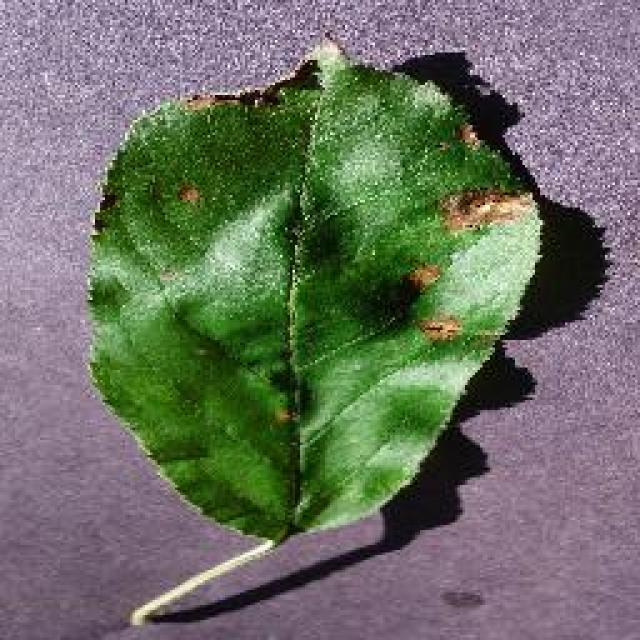Black_rot: (83, 35, 545, 625)
